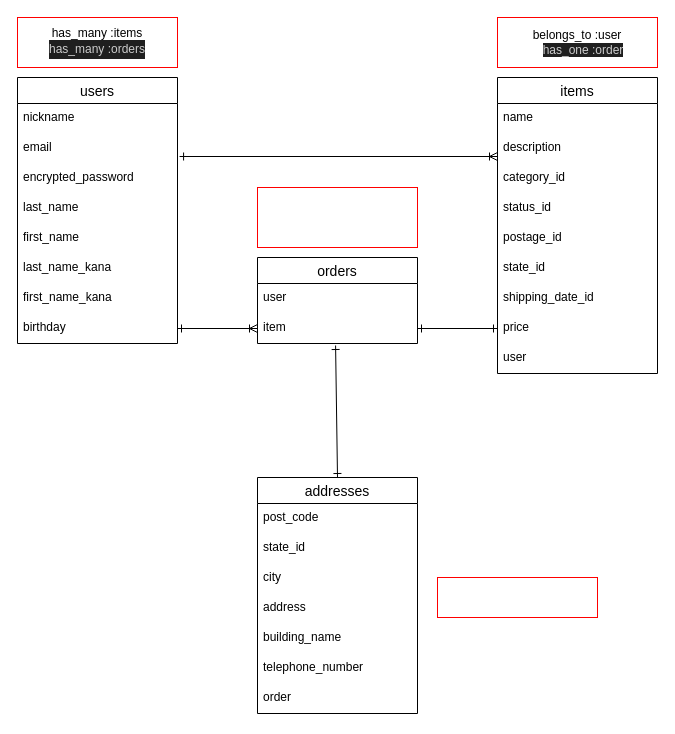
Image size: 675x734. Some labels were removed from this diagram. The shapes that lost their labels are listed below. From the top down, each one's centre as x and y in pixels, then its label:
the point at 337,217: belongs_to :user belongs_to :item has_one :address
the point at 517,597: belongs_to :order
